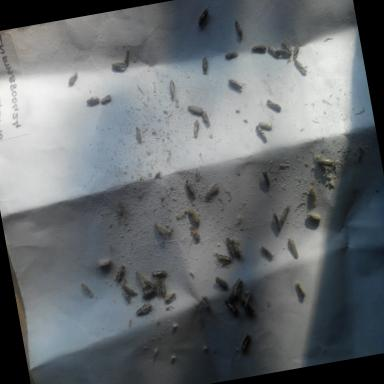pbw: (228, 276, 248, 302), (264, 94, 286, 116), (236, 332, 256, 356), (194, 56, 212, 81), (184, 174, 200, 202), (194, 6, 213, 29), (132, 300, 156, 318), (240, 289, 258, 313), (294, 56, 312, 80), (240, 297, 257, 322), (110, 57, 132, 76), (121, 276, 140, 298), (222, 235, 238, 261), (258, 166, 274, 192), (229, 232, 242, 264), (278, 202, 294, 227), (228, 74, 248, 94), (152, 219, 170, 241), (258, 242, 276, 264), (286, 235, 300, 263), (279, 36, 296, 59), (186, 202, 202, 226), (187, 222, 203, 246), (160, 286, 180, 305), (215, 248, 235, 267), (305, 184, 320, 208), (199, 292, 214, 316), (186, 100, 206, 118), (140, 284, 160, 302), (148, 262, 170, 278), (93, 255, 112, 273), (65, 68, 82, 88), (213, 272, 230, 292), (270, 210, 284, 234), (265, 39, 281, 60), (164, 78, 178, 102), (254, 122, 268, 146), (82, 92, 102, 108), (303, 210, 323, 226), (256, 116, 276, 132), (315, 154, 335, 170), (80, 280, 94, 302), (294, 278, 308, 300), (142, 275, 160, 292), (112, 264, 128, 283), (187, 118, 202, 138), (232, 19, 246, 40), (98, 90, 115, 107), (224, 298, 240, 316), (132, 124, 145, 146), (288, 42, 302, 62), (248, 42, 268, 56), (274, 46, 292, 61), (119, 285, 133, 304), (223, 50, 240, 63), (202, 108, 212, 130), (158, 276, 168, 296), (134, 266, 144, 284)
